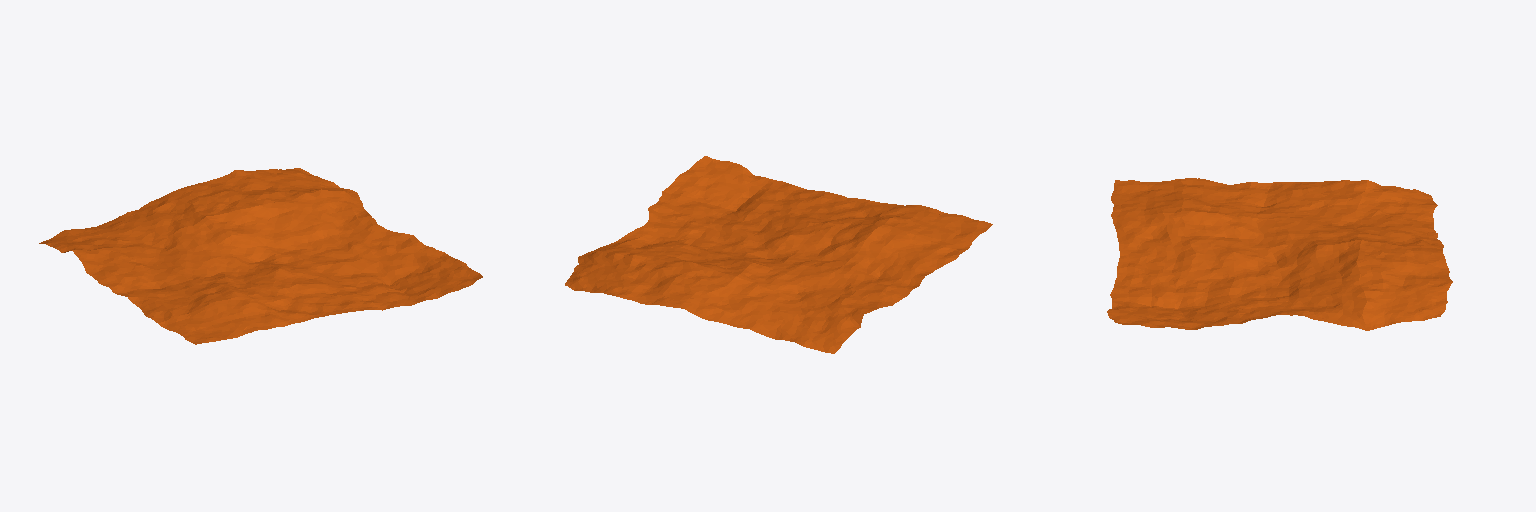
Rendered from environment_1.obj.
The picture shows the model from 3 angles: view 1: azimuth 30°, elevation 25°; view 2: azimuth 150°, elevation 25°; view 3: azimuth 270°, elevation 25°; orthographic projection.
Visible parts, largest first — view 1: Environment_1_Plane; view 2: Environment_1_Plane; view 3: Environment_1_Plane.
Boxes of the visible parts, <box> form: Environment_1_Plane: <box>39,168,482,344</box>; Environment_1_Plane: <box>565,156,992,353</box>; Environment_1_Plane: <box>1107,178,1452,330</box>.
Size of the model in its own units: 21.42 by 1.74 by 21.55.